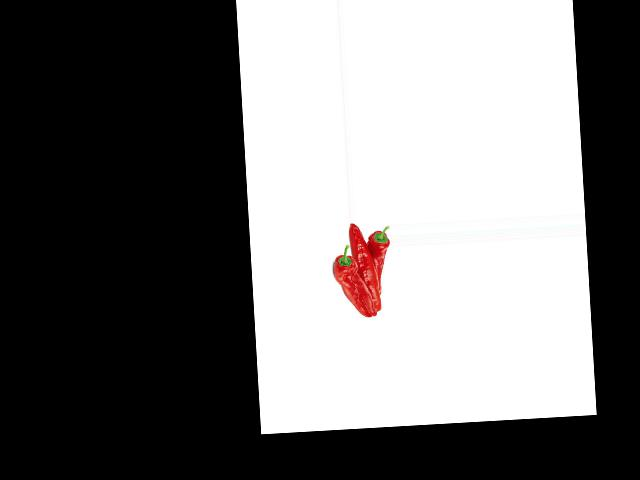bell_pepper: (329, 241, 368, 320)
